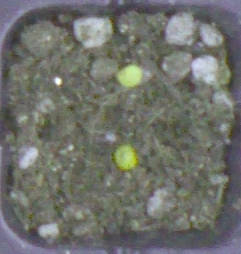chilli seed: (113, 144, 138, 170), (116, 64, 142, 87)
